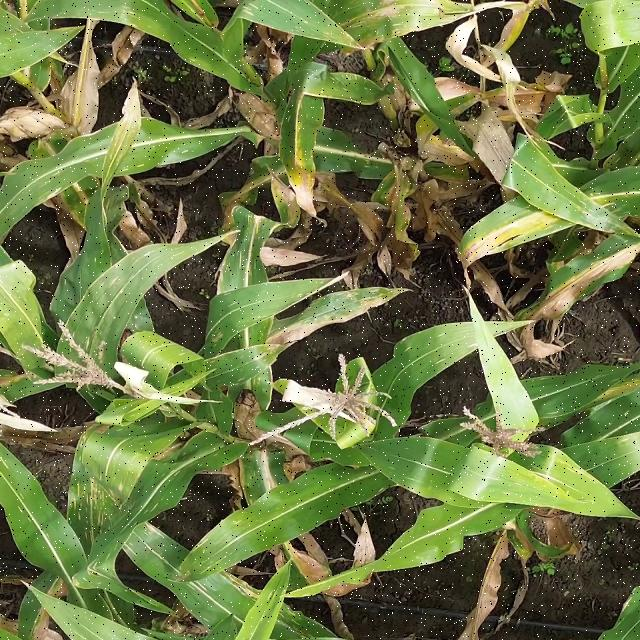gray-leaf-spot: (10, 434, 185, 568), (198, 208, 307, 423), (123, 509, 281, 632), (21, 245, 183, 363), (226, 0, 375, 108), (86, 124, 206, 229), (274, 269, 396, 348), (394, 304, 481, 396), (534, 388, 640, 457), (108, 0, 176, 51)
northern-leaf-blight: (458, 173, 640, 332), (268, 102, 321, 211), (320, 0, 443, 46)
